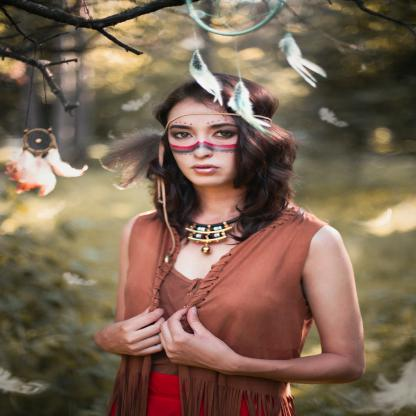Eye: (208, 126, 239, 142), (167, 127, 196, 142)
Mouth: (188, 161, 222, 177)
Nose: (194, 130, 213, 159)
